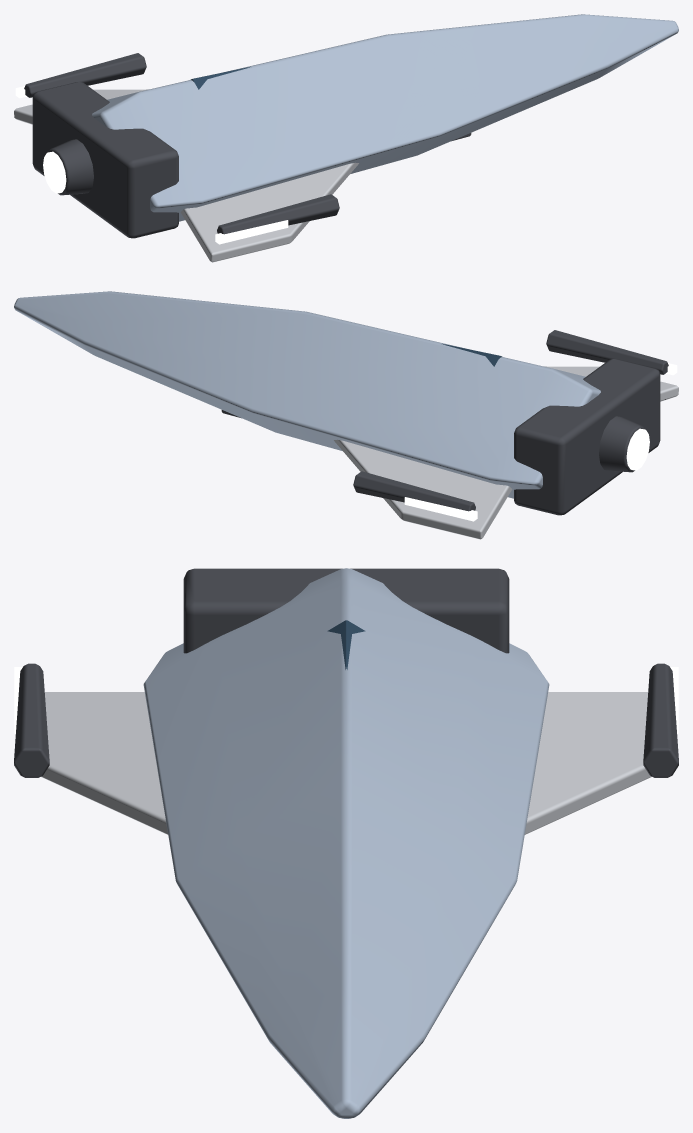
The model's file is angular_small.glb.
3 renders of one model, top to bottom at view 1: azimuth 30°, elevation 25°; view 2: azimuth 150°, elevation 25°; view 3: azimuth 270°, elevation 25°, orthographic. The views are drawn at different scales.
Visible parts, largest first — view 1: angular_small; view 2: angular_small; view 3: angular_small.
Part boxes in pixels (x1,y1,x2,y2): angular_small: [14, 14, 678, 262]; angular_small: [14, 291, 678, 539]; angular_small: [14, 568, 678, 1118].
Bounding box in the file's own units: 1 × 0.1708 × 0.5672.
